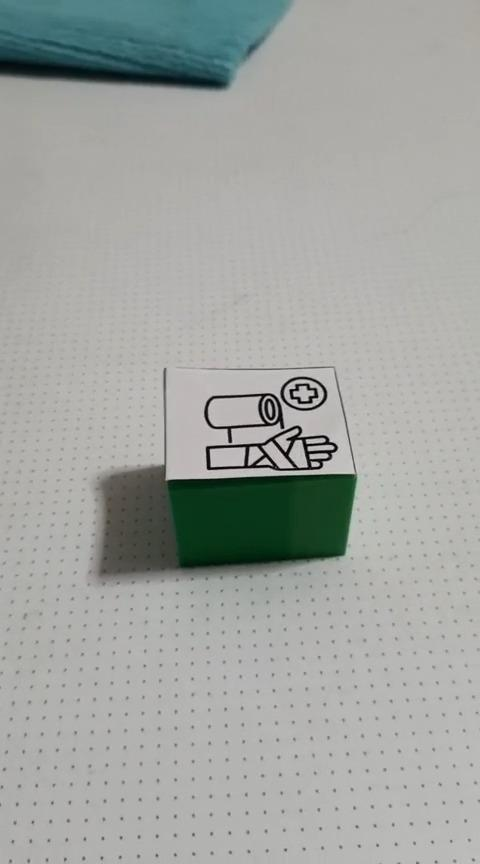Bandages: (162, 364, 357, 567), (0, 0, 294, 88)
